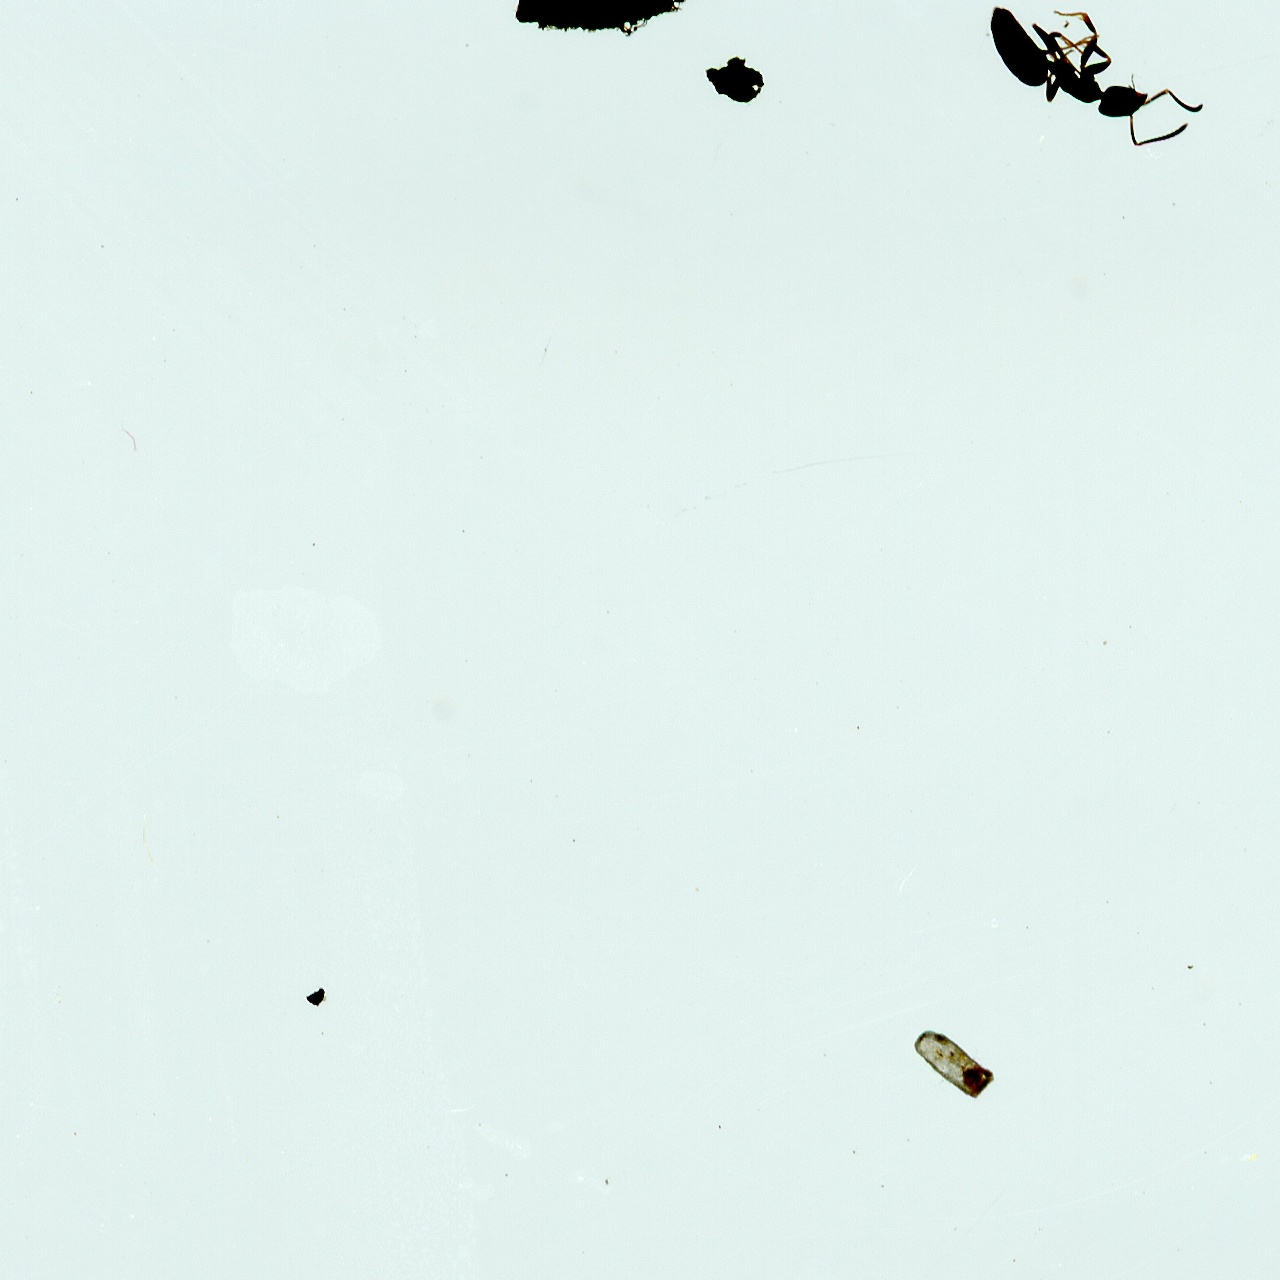arthropod: (957, 0, 1211, 173)
